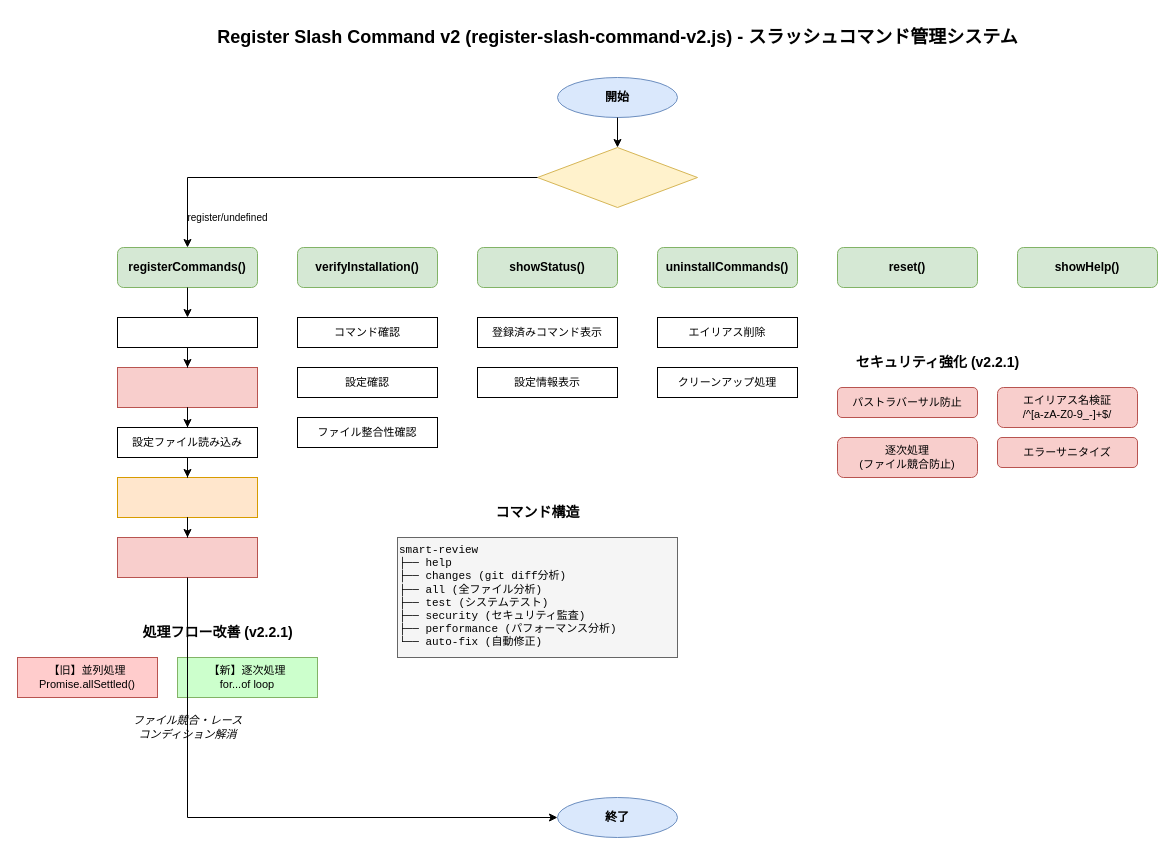
The diagram is 1175 pixels wide and 855 high, and some of its shapes have lost their labels. The shapes that lost their labels are listed below. From the top down, each one's centre as x and y in pixels, then its label:
[617,177]: コマンド解析
[187,332]: Claude Code検出
[187,387]: パス検証 (セキュリティ強化)
[187,497]: エイリアス作成 (逐次処理)
[187,557]: エイリアス名検証 (パストラバーサル対策)
